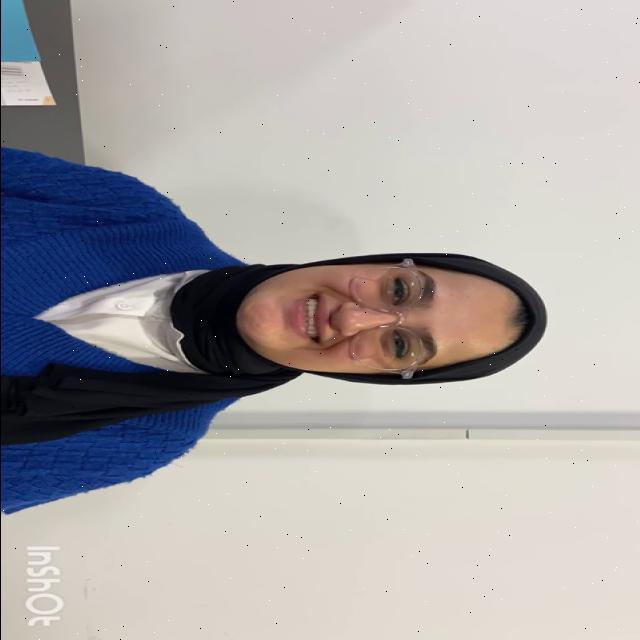happy: (224, 258, 536, 382)
